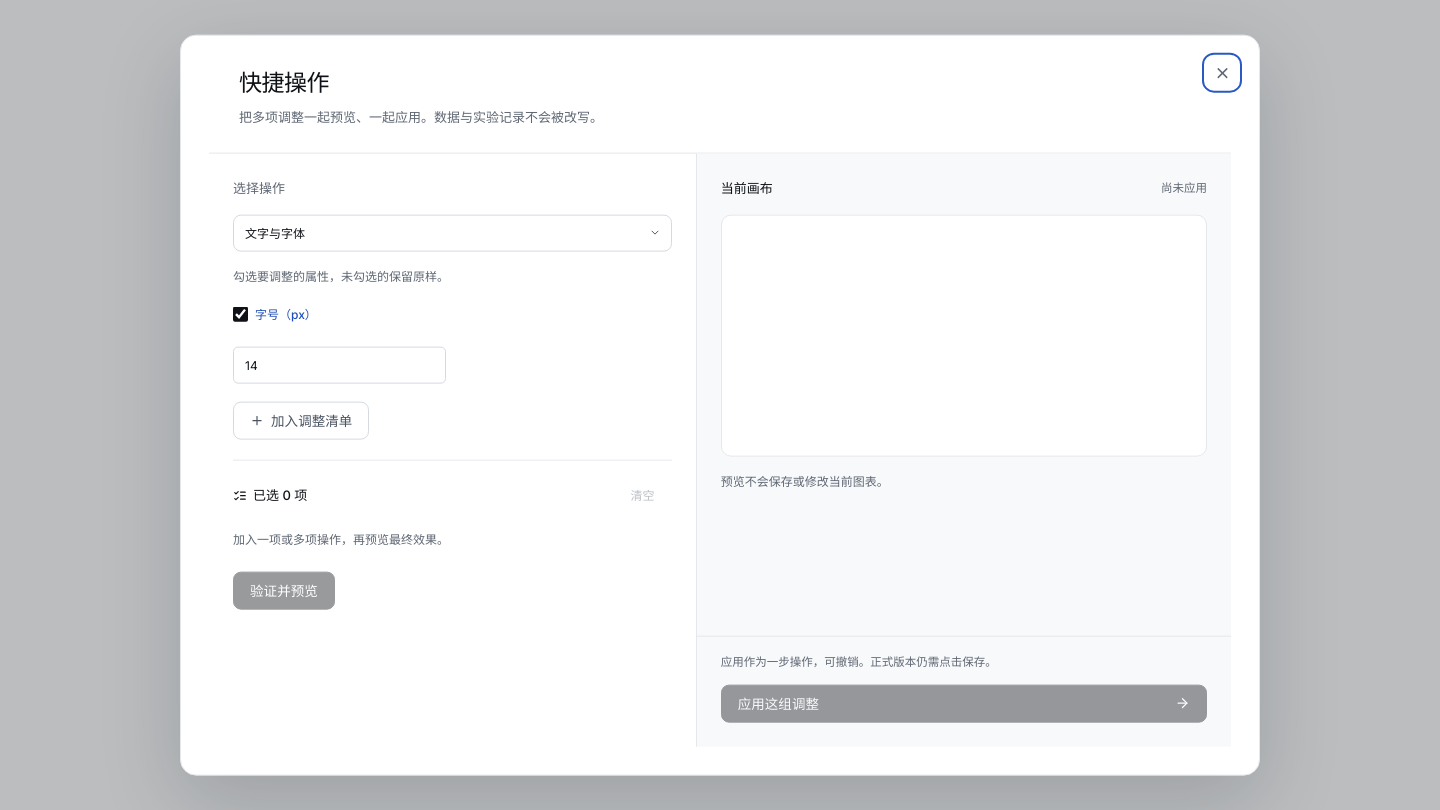
Test: structural tools › groups structure tools and queues a required-only operation
This screenshot has width=1440, height=810.
Select "图表类型" in the dropdown named "选择快捷操作" at (452, 233), box top-left (233, 214), bottom-right (672, 251)
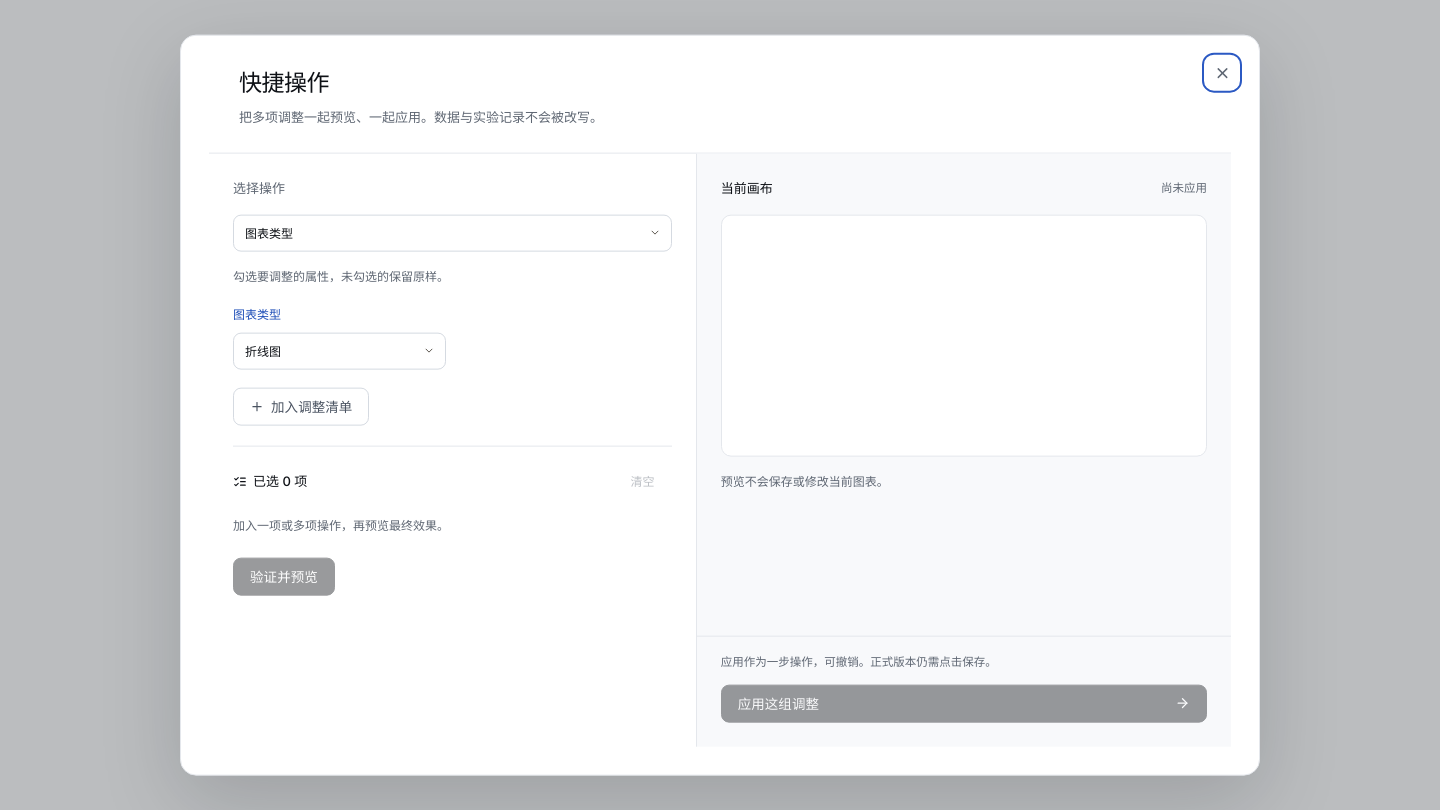
Click the button "加入调整清单" at (301, 406), box top-left (233, 387), bottom-right (369, 425)
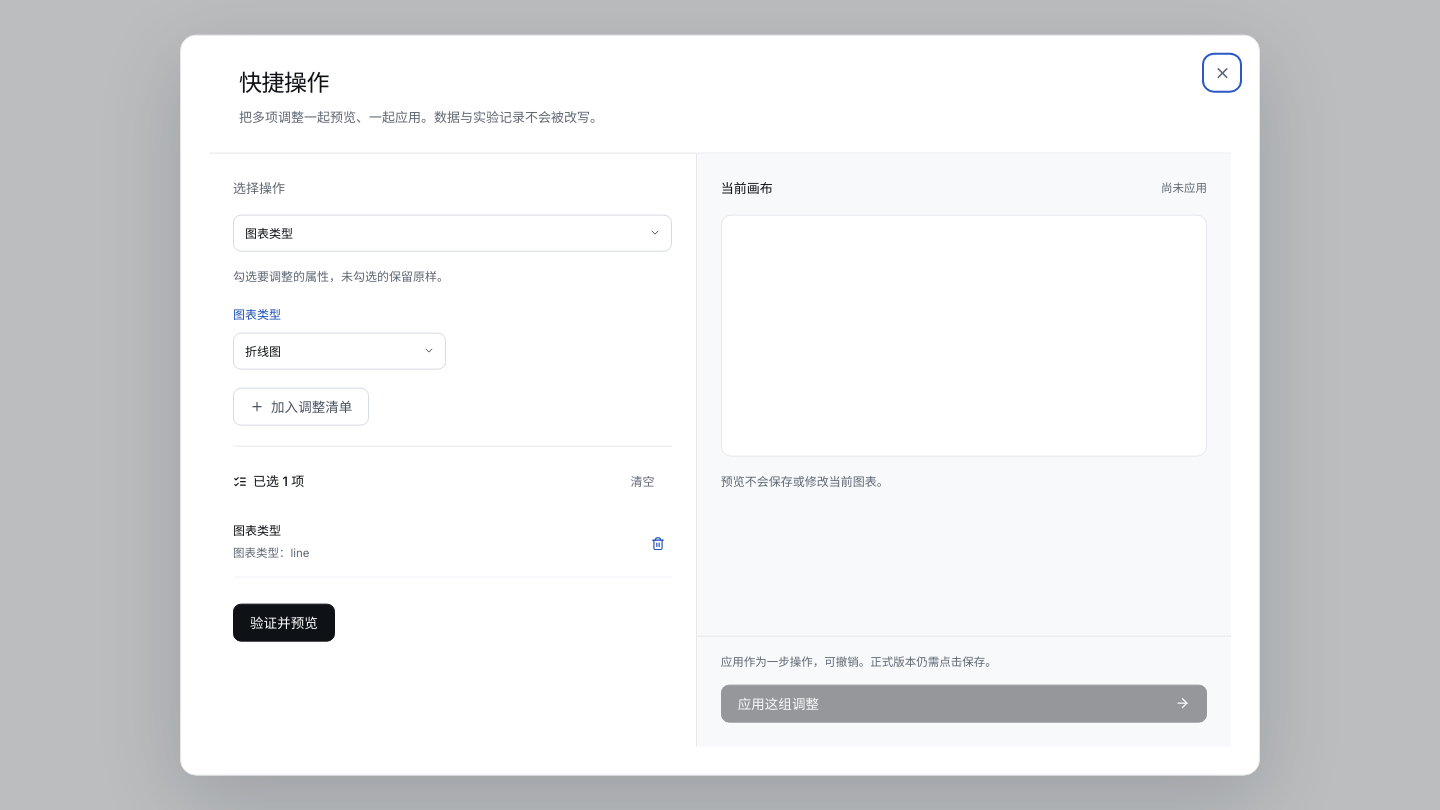
Expected: the heading "已选 1 项" is shown, top-left (233, 471), bottom-right (304, 492)
